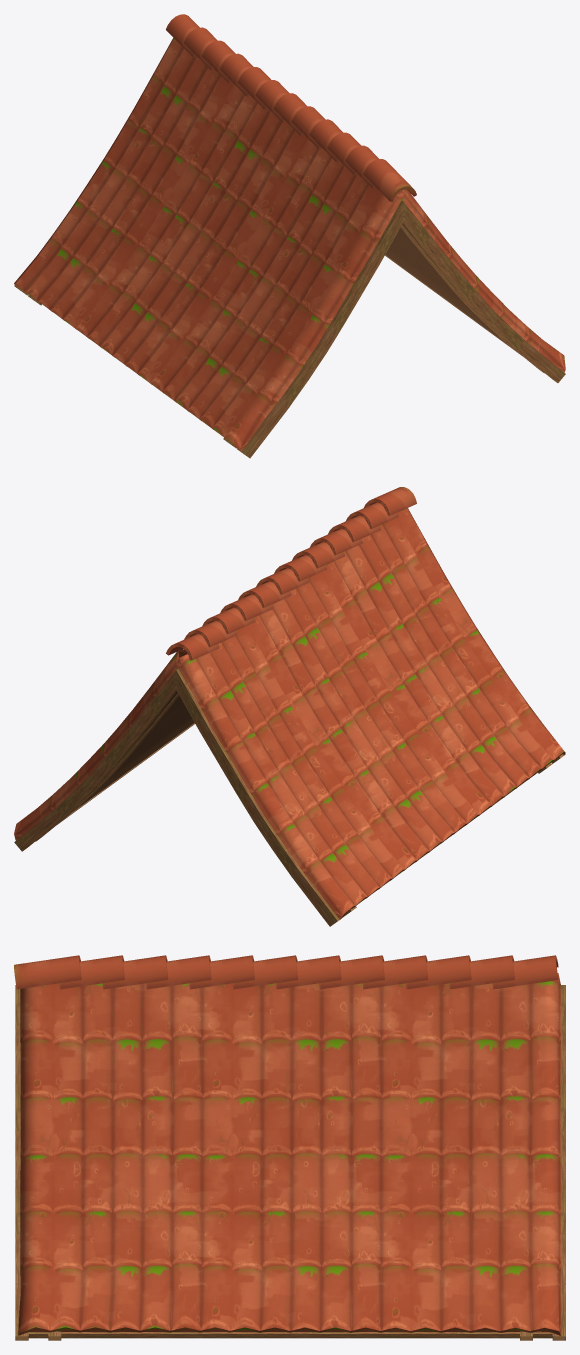
Rendered from Roof_RoundTiles_6x8.gltf.
3 renders of one model, top to bottom at view 1: azimuth 30°, elevation 25°; view 2: azimuth 150°, elevation 25°; view 3: azimuth 270°, elevation 25°, orthographic. The views are drawn at different scales.
Visible parts, largest first — view 1: Roof_RoundTiles_6x8; view 2: Roof_RoundTiles_6x8; view 3: Roof_RoundTiles_6x8.
Part boxes in pixels (<box>): Roof_RoundTiles_6x8: <box>14,14,565,458</box>; Roof_RoundTiles_6x8: <box>14,487,565,926</box>; Roof_RoundTiles_6x8: <box>14,955,565,1340</box>.
Bounding box in the file's own units: 8.25 × 5.67 × 9.68.
Materials: 2 (2 with a texture image).
